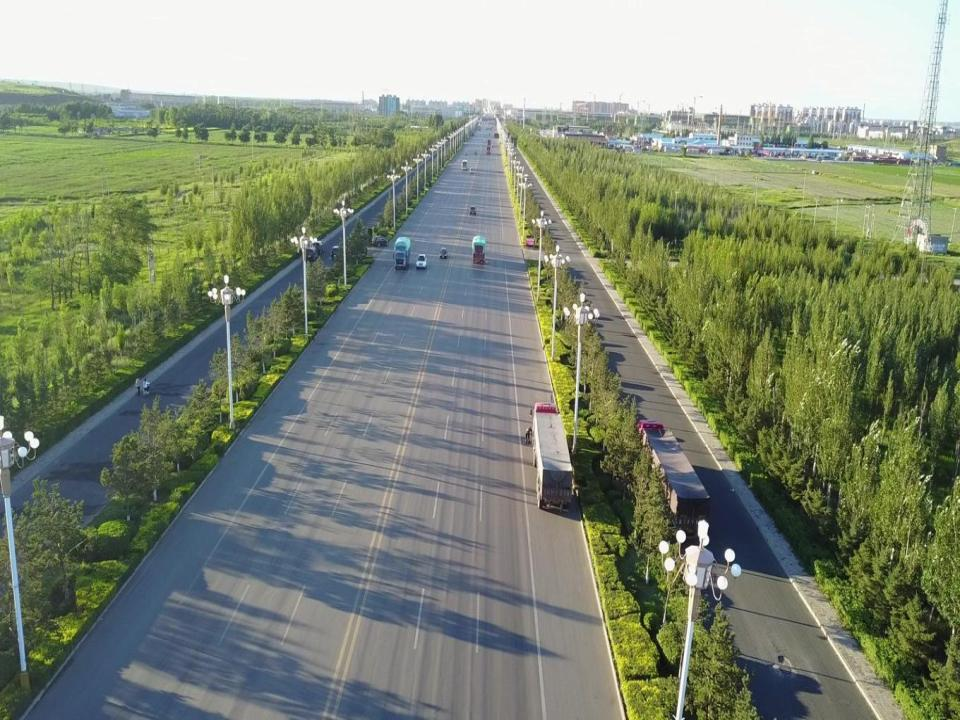bus: (461, 160, 467, 170)
car: (439, 247, 448, 258), (490, 145, 494, 147), (483, 138, 485, 142)
truck: (632, 419, 710, 541), (530, 402, 574, 513), (393, 237, 410, 270), (472, 236, 485, 264), (469, 205, 476, 216), (486, 146, 490, 154), (487, 139, 491, 146)
van: (331, 244, 344, 260), (305, 246, 318, 262), (372, 235, 388, 247), (313, 241, 324, 254), (416, 254, 426, 268), (470, 168, 474, 173), (464, 152, 468, 156), (474, 150, 477, 154)
